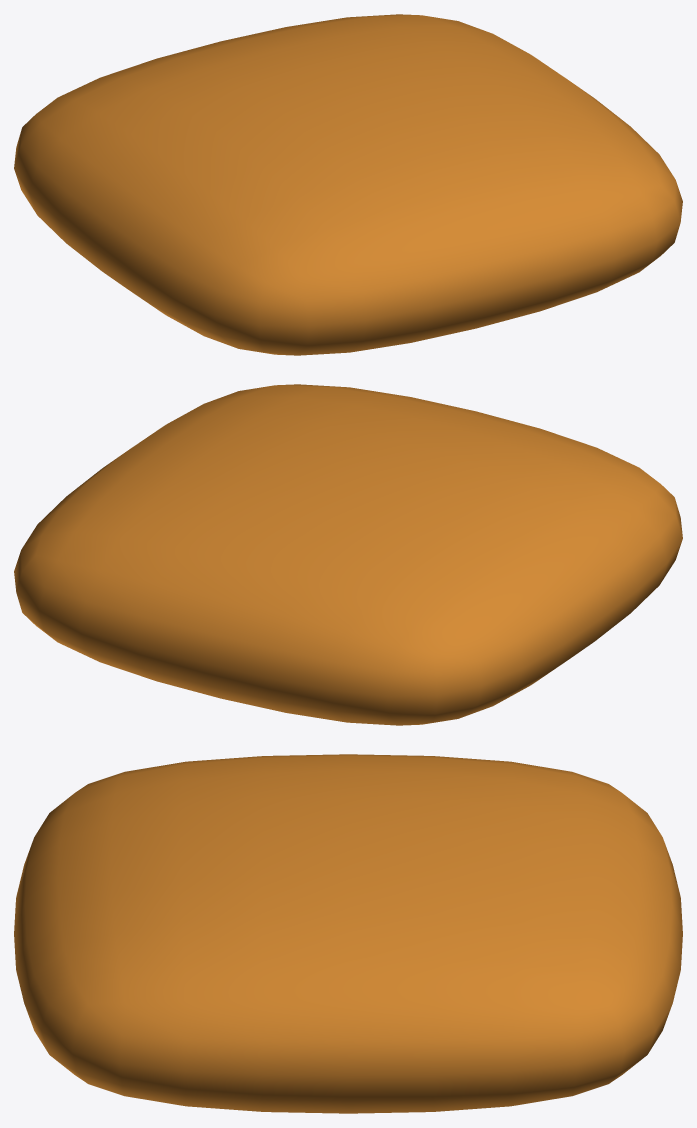
File: SM_pillow_yellow.glb
The picture shows the model from 3 angles, top to bottom: view 1: azimuth 30°, elevation 25°; view 2: azimuth 150°, elevation 25°; view 3: azimuth 270°, elevation 25°; orthographic projection. The views are drawn at different scales.
Parts seen in each view (by area): view 1: SM_pillow_yellow; view 2: SM_pillow_yellow; view 3: SM_pillow_yellow.
Boxes of the visible parts, x1,y1,x2,y2 form: SM_pillow_yellow: (14, 14, 682, 355); SM_pillow_yellow: (14, 384, 682, 725); SM_pillow_yellow: (14, 754, 682, 1113).
Bounding box in the file's own units: 0.5046 × 0.1711 × 0.5046.
Materials: 1 (1 with a texture image).
